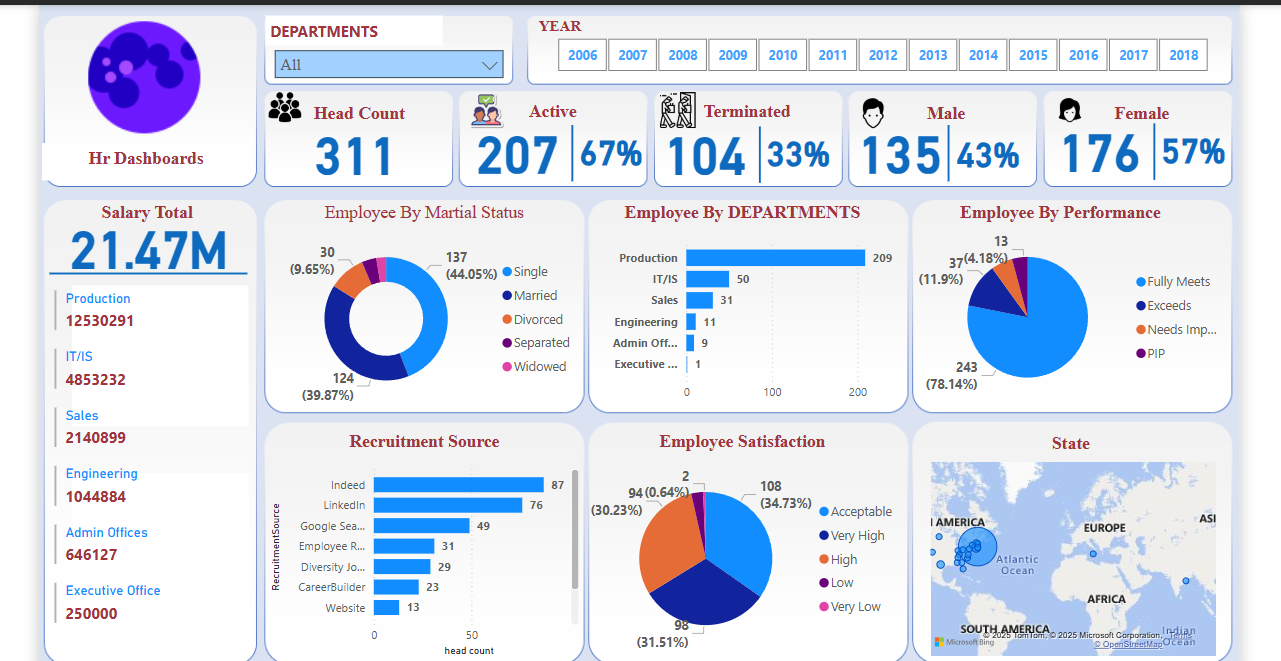

Layout of this report page (visuals, bound fields, positions):
{"tool":"powerbi","page":{"name":"Page 1","canvas":[1280,720],"ordinal":0},"visuals":[{"type":"image","box":[35,0,153.3,153.3],"z":0},{"type":"card","fields":{"Values":["ALL Measures.Female"]},"box":[1068.3,118.3,120,65],"z":0,"group":"g3"},{"type":"card","fields":{"Values":["ALL Measures.Active"]},"box":[448.3,120,120,65],"z":0,"group":"g1"},{"type":"card","fields":{"Values":["ALL Measures.Male"]},"box":[865,120,105,65],"z":0,"group":"g2"},{"type":"card","fields":{"Values":["ALL Measures.Terminated"]},"box":[648.3,121.7,120,65],"z":0,"group":"g4"},{"type":"card","fields":{"Values":["ALL Measures.Female %"]},"box":[1188.3,121.6,80,61.7],"z":1000,"group":"g3"},{"type":"card","fields":{"Values":["ALL Measures.active %"]},"box":[568.3,123.3,80,61.7],"z":1000,"group":"g1"},{"type":"card","fields":{"Values":["ALL Measures.Terminated %"]},"box":[768.3,125,80,61.7],"z":1000,"group":"g4"},{"type":"card","fields":{"Values":["ALL Measures.Male %"]},"box":[970,127.8,81.7,56.7],"z":1000,"group":"g2"},{"type":"textbox","box":[3.3,146.7,221.7,40],"z":1000},{"type":"shape","box":[1146.6,126.6,81.7,60],"z":2000,"group":"g3"},{"type":"shape","box":[526.6,128.3,81.7,60],"z":2000,"group":"g1"},{"type":"shape","box":[933.5,128.3,71.5,60],"z":2000,"group":"g2"},{"type":"shape","box":[726.6,130,81.7,60],"z":2000,"group":"g4"},{"type":"textbox","box":[35,298,188,150],"z":2000},{"type":"textbox","box":[35,499,188,150],"z":3000},{"type":"textbox","box":[241.7,11.7,188.3,31.7],"z":4000},{"type":"slicer","fields":{"Values":["HRData.Department"]},"box":[241.7,38.3,263.3,75],"z":5000},{"type":"slicer","fields":{"Values":["HRData.Hiring year"]},"box":[526.7,28.3,741.7,48.3],"z":6000},{"type":"textbox","box":[526.7,8.3,263.3,30],"z":7000},{"type":"textbox","box":[241.7,205,338.3,31.7],"z":8000},{"type":"textbox","box":[580,205,338.3,48.3],"z":9000},{"type":"textbox","box":[918.3,205,338.3,31.7],"z":10000},{"type":"textbox","box":[241.7,98.3,200,31.7],"z":11000},{"type":"textbox","box":[453.3,96.7,186.7,31.7],"z":12000},{"type":"textbox","box":[658.3,96.7,191.7,31.7],"z":13000},{"type":"textbox","box":[865,98.3,203.3,31.7],"z":14000},{"type":"textbox","box":[1068.3,98.3,211.7,31.7],"z":15000},{"type":"textbox","box":[241.7,448.3,338.3,31.7],"z":16000},{"type":"textbox","box":[580,448.3,338.3,31.7],"z":17000},{"type":"textbox","box":[930,450,338.3,31.7],"z":18000},{"type":"textbox","box":[4.8,204.5,220.5,32],"z":19000},{"type":"card","fields":{"Values":["ALL Measures.head count"]},"box":[225,121.7,223.3,65],"z":20000},{"type":"group","id":"g1","title":"Group 1","box":[448.3,120,200,68.3],"z":21000},{"type":"group","id":"g2","title":"Group 1","box":[865,120,186.7,68.3],"z":22000},{"type":"group","id":"g3","title":"Group 1","box":[1068.3,118.3,200,68.3],"z":23000},{"type":"group","id":"g4","title":"Group 1","box":[648.3,121.7,200,68.3],"z":24000},{"type":"donutChart","fields":{"Y":["ALL Measures.head count"],"Category":["HRData.MaritalStatus"]},"box":[241.7,238.3,338.3,191.7],"z":25000},{"type":"clusteredBarChart","fields":{"Y":["ALL Measures.head count"],"Category":["HRData.Department"]},"box":[591.7,238.3,338.3,191.7],"z":26000},{"type":"pieChart","fields":{"Y":["ALL Measures.head count"],"Category":["HRData.PerformanceScore"]},"box":[933.3,236.7,338.3,191.7],"z":27000},{"type":"clusteredBarChart","fields":{"Y":["ALL Measures.head count"],"Category":["HRData.RecruitmentSource"]},"box":[241.7,481.7,338.3,216.7],"z":28000},{"type":"pieChart","fields":{"Y":["ALL Measures.head count"],"Category":["HRData.Satisfaction statu"]},"box":[585,481.7,338.3,216.7],"z":29000},{"type":"map","fields":{"Size":["ALL Measures.head count"],"Category":["HRData.State"]},"box":[943.8,481.2,314.1,217.2],"z":30000},{"type":"card","fields":{"Values":["ALL Measures.Salary"]},"box":[4.8,220.5,223.7,67.1],"z":31000},{"type":"shape","box":[11.2,273.2,210.9,25.6],"z":32000},{"type":"image","box":[1067.2,92.7,60.7,38.3],"z":33000},{"type":"image","box":[853.2,92.7,70.3,44.7],"z":34000},{"type":"image","box":[648.7,86.3,63.9,51.1],"z":35000},{"type":"image","box":[447.3,86.3,57.5,51.1],"z":36000},{"type":"image","box":[225.3,86.3,73.5,44.7],"z":37000},{"type":"multiRowCard","fields":{"Values":["ALL Measures.Salary","HRData.Department"]},"box":[11.2,298.8,214.1,421.8],"z":37001}]}

Visuals, with their boxes on the page's 1280x720 design canvas (x1, y1, x2, y2). These are canvas units, not pixel positions in the 1281x661 screenshot, which may show the page scaled, cropped or inside an application window:
image: bbox=(35, 0, 188, 153)
card - ALL Measures.Female: bbox=(1068, 118, 1188, 183)
card - ALL Measures.Active: bbox=(448, 120, 568, 185)
card - ALL Measures.Male: bbox=(865, 120, 970, 185)
card - ALL Measures.Terminated: bbox=(648, 122, 768, 187)
card - ALL Measures.Female %: bbox=(1188, 122, 1268, 183)
card - ALL Measures.active %: bbox=(568, 123, 648, 185)
card - ALL Measures.Terminated %: bbox=(768, 125, 848, 187)
card - ALL Measures.Male %: bbox=(970, 128, 1052, 184)
textbox: bbox=(3, 147, 225, 187)
shape: bbox=(1147, 127, 1228, 187)
shape: bbox=(527, 128, 608, 188)
shape: bbox=(934, 128, 1005, 188)
shape: bbox=(727, 130, 808, 190)
textbox: bbox=(35, 298, 223, 448)
textbox: bbox=(35, 499, 223, 649)
textbox: bbox=(242, 12, 430, 43)
slicer - HRData.Department: bbox=(242, 38, 505, 113)
slicer - HRData.Hiring year: bbox=(527, 28, 1268, 77)
textbox: bbox=(527, 8, 790, 38)
textbox: bbox=(242, 205, 580, 237)
textbox: bbox=(580, 205, 918, 253)
textbox: bbox=(918, 205, 1257, 237)
textbox: bbox=(242, 98, 442, 130)
textbox: bbox=(453, 97, 640, 128)
textbox: bbox=(658, 97, 850, 128)
textbox: bbox=(865, 98, 1068, 130)
textbox: bbox=(1068, 98, 1280, 130)
textbox: bbox=(242, 448, 580, 480)
textbox: bbox=(580, 448, 918, 480)
textbox: bbox=(930, 450, 1268, 482)
textbox: bbox=(5, 204, 225, 236)
card - ALL Measures.head count: bbox=(225, 122, 448, 187)
"Group 1" group: bbox=(448, 120, 648, 188)
"Group 1" group: bbox=(865, 120, 1052, 188)
"Group 1" group: bbox=(1068, 118, 1268, 187)
"Group 1" group: bbox=(648, 122, 848, 190)
donutChart - ALL Measures.head count x HRData.MaritalStatus: bbox=(242, 238, 580, 430)
clusteredBarChart - ALL Measures.head count x HRData.Department: bbox=(592, 238, 930, 430)
pieChart - ALL Measures.head count x HRData.PerformanceScore: bbox=(933, 237, 1272, 428)
clusteredBarChart - ALL Measures.head count x HRData.RecruitmentSource: bbox=(242, 482, 580, 698)
pieChart - ALL Measures.head count x HRData.Satisfaction statu: bbox=(585, 482, 923, 698)
map - ALL Measures.head count x HRData.State: bbox=(944, 481, 1258, 698)
card - ALL Measures.Salary: bbox=(5, 220, 228, 288)
shape: bbox=(11, 273, 222, 299)
image: bbox=(1067, 93, 1128, 131)
image: bbox=(853, 93, 924, 137)
image: bbox=(649, 86, 713, 137)
image: bbox=(447, 86, 505, 137)
image: bbox=(225, 86, 299, 131)
multiRowCard - ALL Measures.Salary x HRData.Department: bbox=(11, 299, 225, 721)
